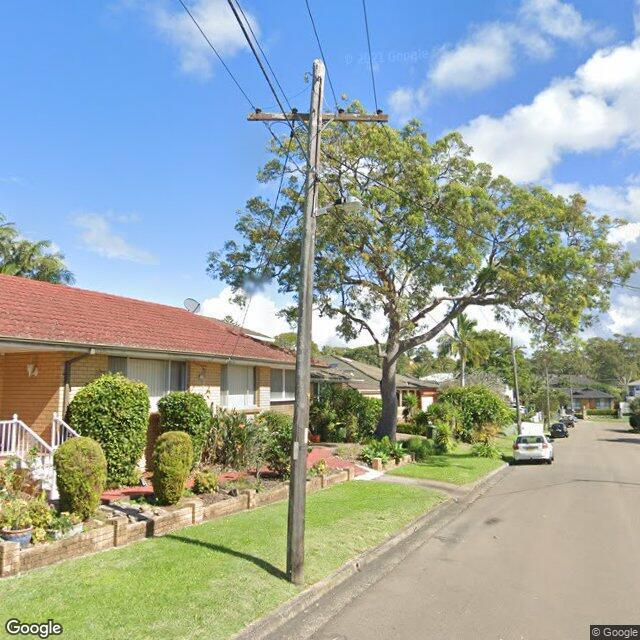crossarm: (248, 111, 389, 123)
timber-pole: (286, 59, 329, 584), (510, 340, 523, 434)
